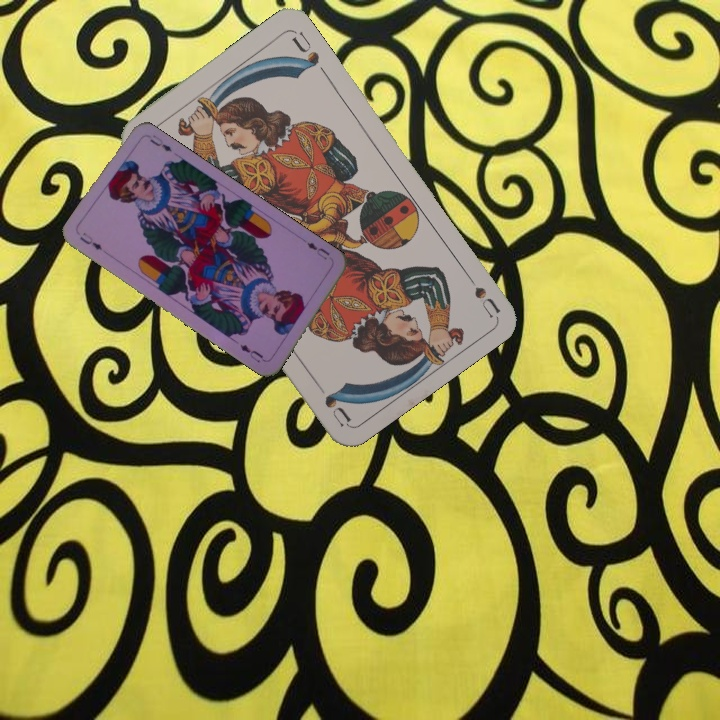EU: (75, 228, 105, 253), (303, 238, 332, 262)
SU: (459, 265, 502, 319)
